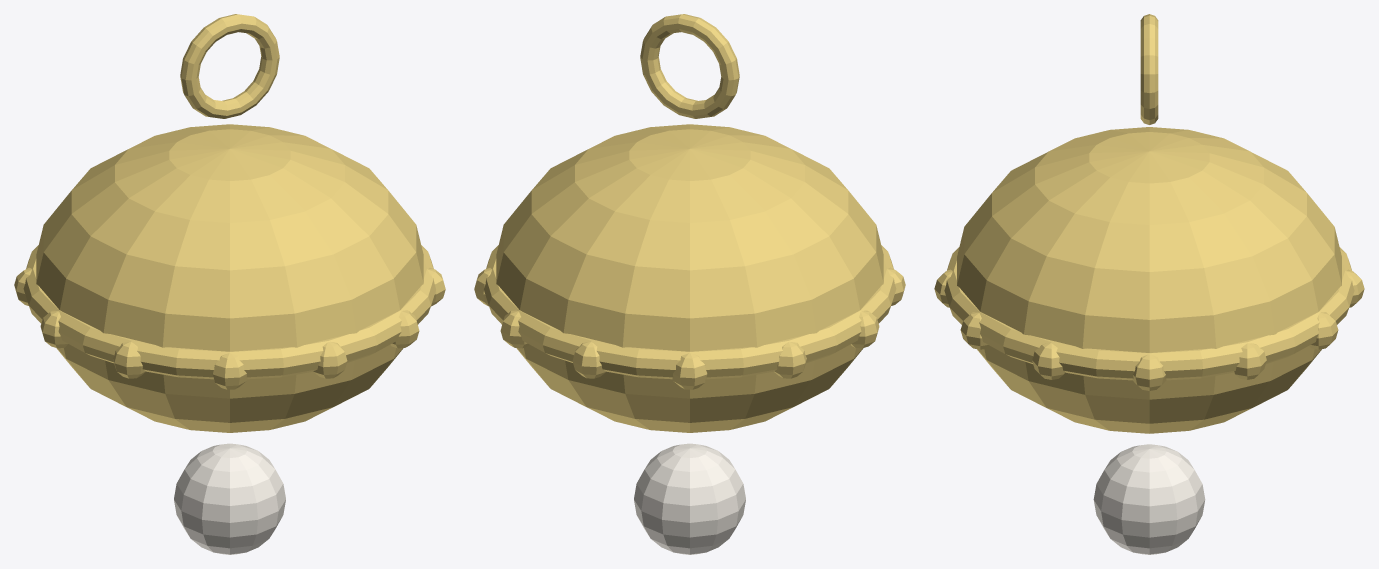
File: jhumka-drop.glb
3 renders of one model, left to right at view 1: azimuth 30°, elevation 25°; view 2: azimuth 150°, elevation 25°; view 3: azimuth 270°, elevation 25°, orthographic.
Visible parts, largest first — view 1: Gold, Pearl; view 2: Gold, Pearl; view 3: Gold, Pearl.
Part boxes in pixels (<box>): Gold: <box>14,14,445,432</box>; Pearl: <box>174,443,285,554</box>; Gold: <box>474,14,905,432</box>; Pearl: <box>634,443,745,554</box>; Gold: <box>934,14,1364,433</box>; Pearl: <box>1093,444,1205,554</box>.
Size of the model in its own units: 18.5 by 25.16 by 18.5.
